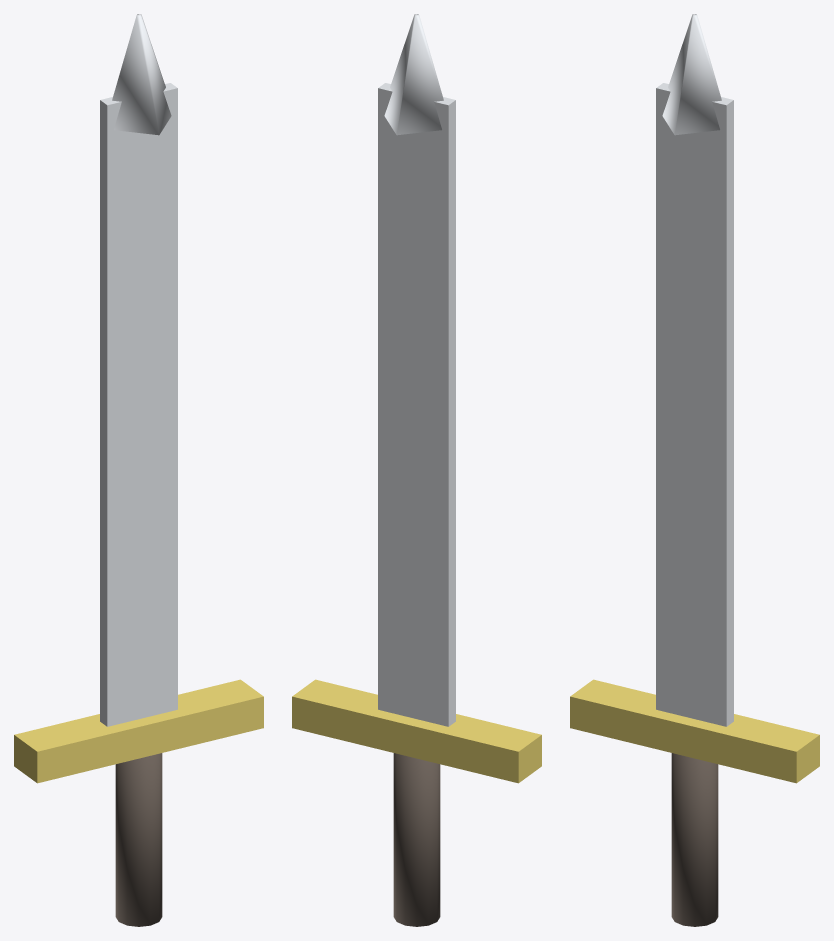
The picture shows the model from 3 angles, left to right: view 1: azimuth 30°, elevation 25°; view 2: azimuth 150°, elevation 25°; view 3: azimuth 330°, elevation 25°; orthographic projection.
Parts seen in each view (by area): view 1: Generated3DMesh; view 2: Generated3DMesh; view 3: Generated3DMesh.
Boxes of the visible parts, bbox=[...] form: Generated3DMesh: bbox=[14, 14, 263, 926]; Generated3DMesh: bbox=[292, 14, 541, 926]; Generated3DMesh: bbox=[570, 14, 819, 926].
Size of the model in its own units: 0.9 by 3.42 by 0.28.
